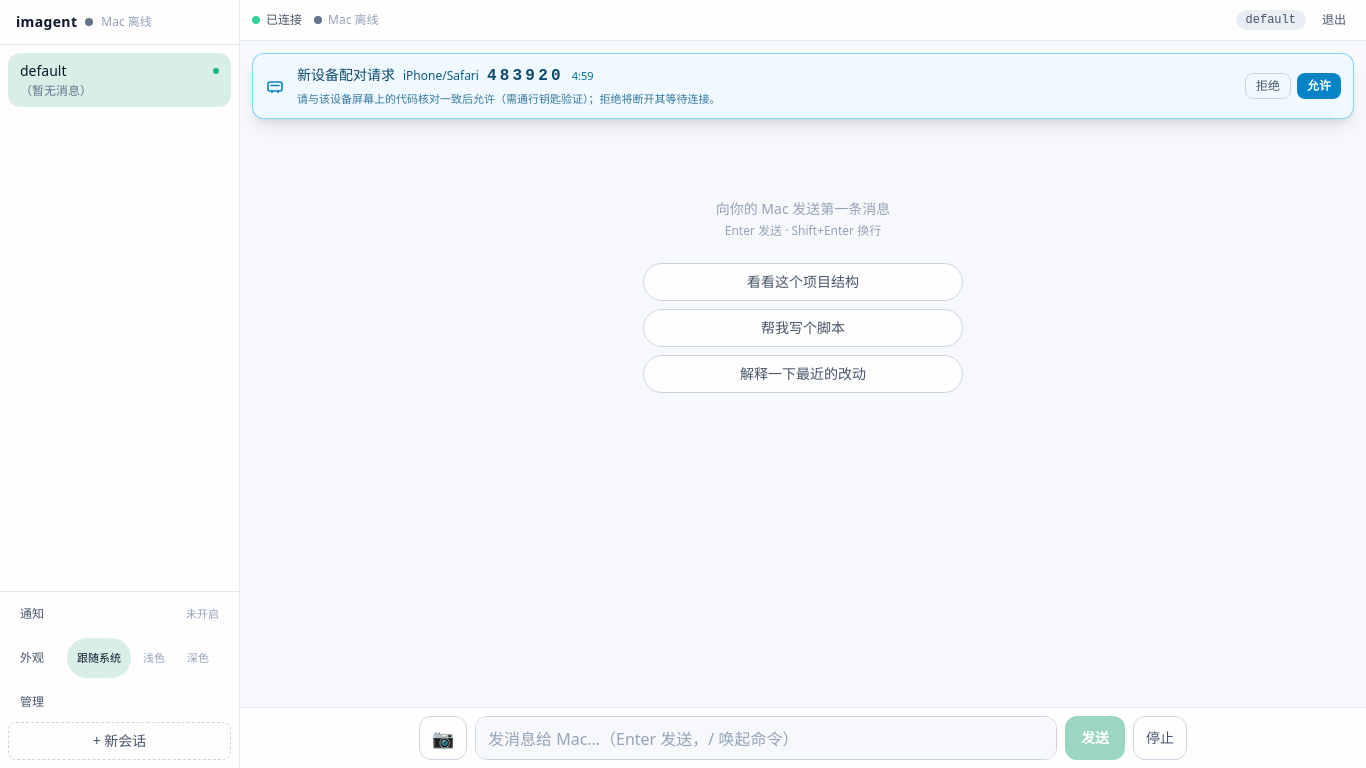
Scenario: App 配对批准侧（v1.5） › pairing_request → 顶部卡（设备名+码）；允许走 re-auth → pairing_approve 帧后卡消失
Expected: the text "iPhone/Safari" is shown, [403,68,479,84]
Expected: the text named "配对请求码" reads "483920", [487,67,564,85]
Click the button "允许". click: click(1319, 86)
box: [1297,73,1341,99]
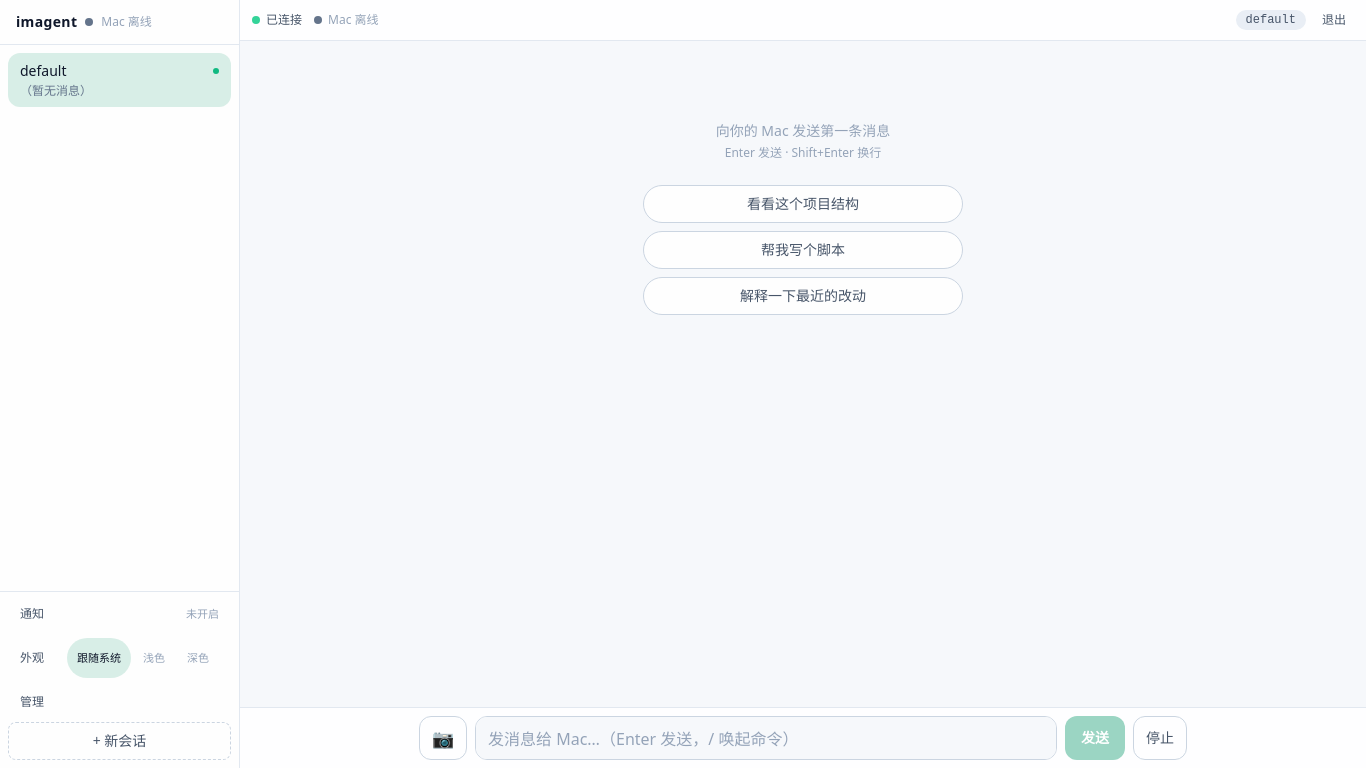
Expected: the text "新设备配对请求" is gone
